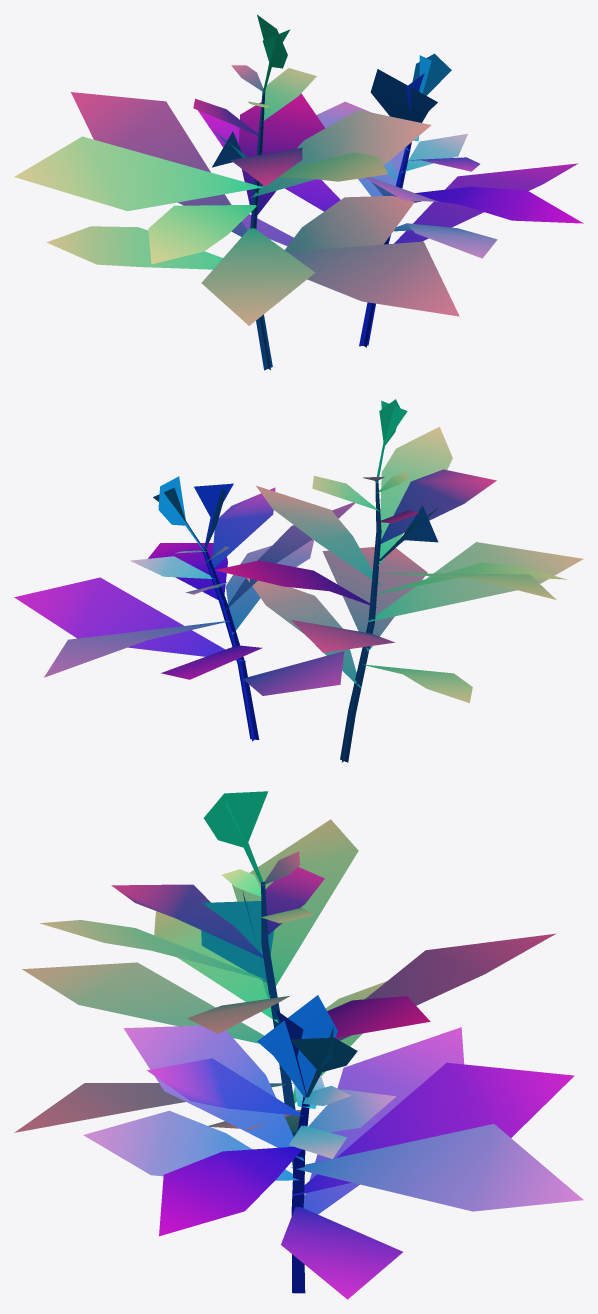
File: xefmcgrqx_VarE_LOD1.fbx
The picture shows the model from 3 angles, top to bottom: view 1: azimuth 30°, elevation 25°; view 2: azimuth 150°, elevation 25°; view 3: azimuth 270°, elevation 25°; orthographic projection. The views are drawn at different scales.
Visible parts, largest first — view 1: _bdzz_VarE_LOD4; view 2: _bdzz_VarE_LOD4; view 3: _bdzz_VarE_LOD4.
Boxes of the visible parts, x1,y1,x2,y2 form: _bdzz_VarE_LOD4: [14, 15, 583, 370]; _bdzz_VarE_LOD4: [14, 399, 583, 762]; _bdzz_VarE_LOD4: [14, 791, 583, 1299].
Size of the model in its own units: 66.67 by 41.32 by 49.14.
